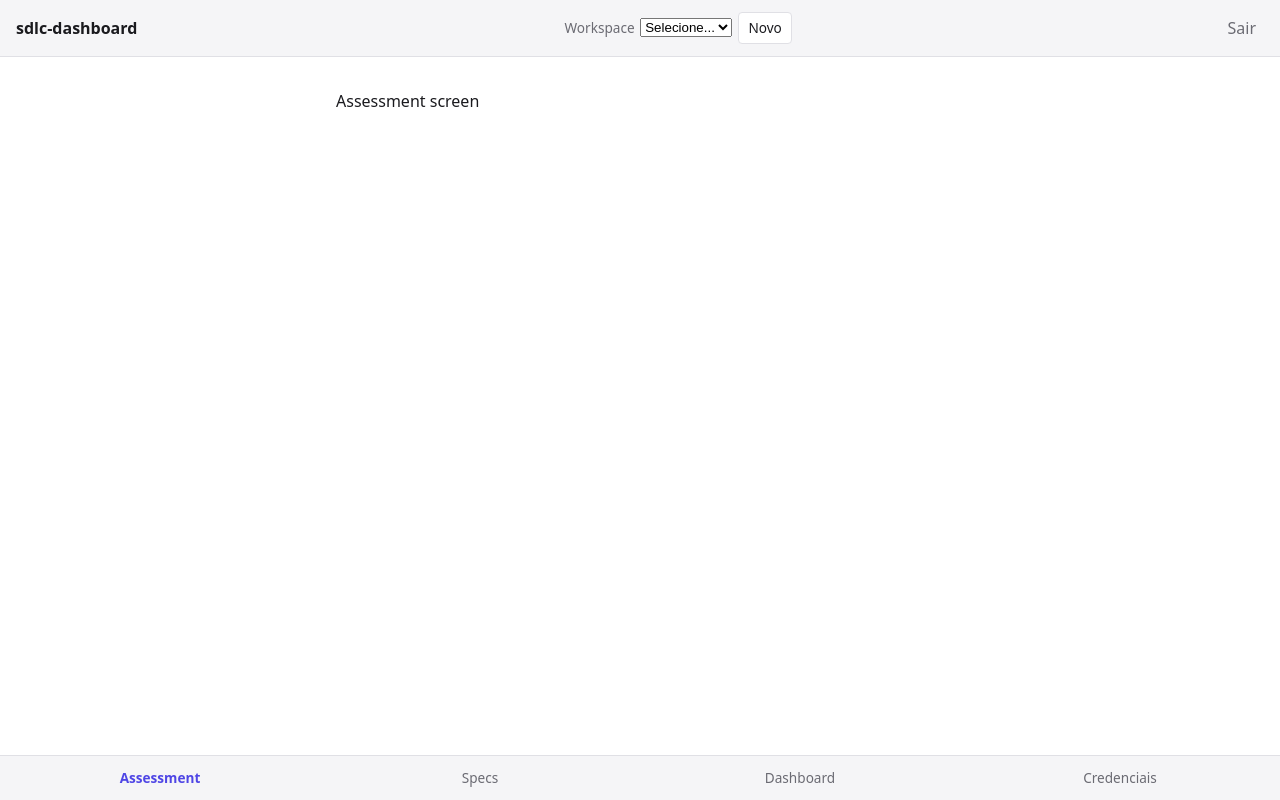
Layout › navigates to the clicked tab
This screenshot has width=1280, height=800.
Expected: the text "Assessment screen" is shown, [336, 90, 479, 112]
Step 1. Click the link "Specs" → (480, 777), box [462, 768, 498, 787]
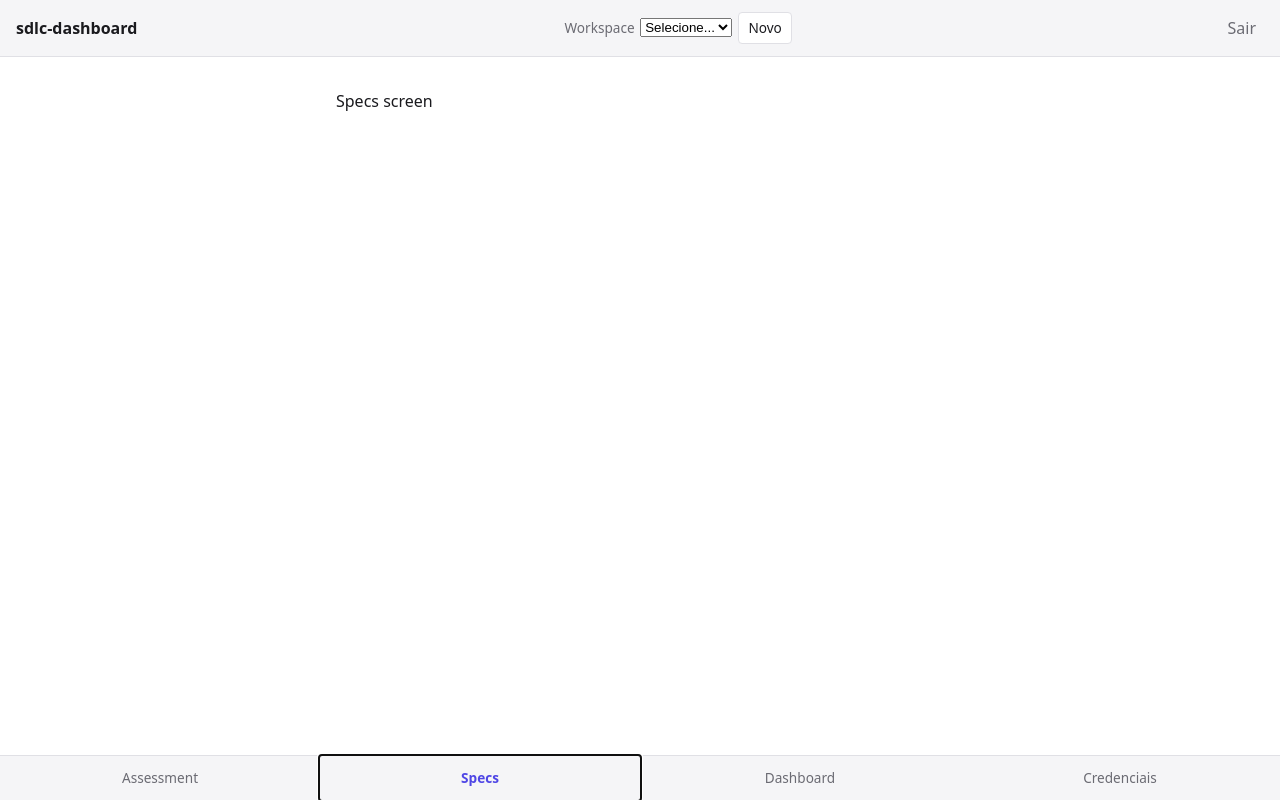
Expected: the text "Specs screen" is shown, [336, 90, 433, 112]
